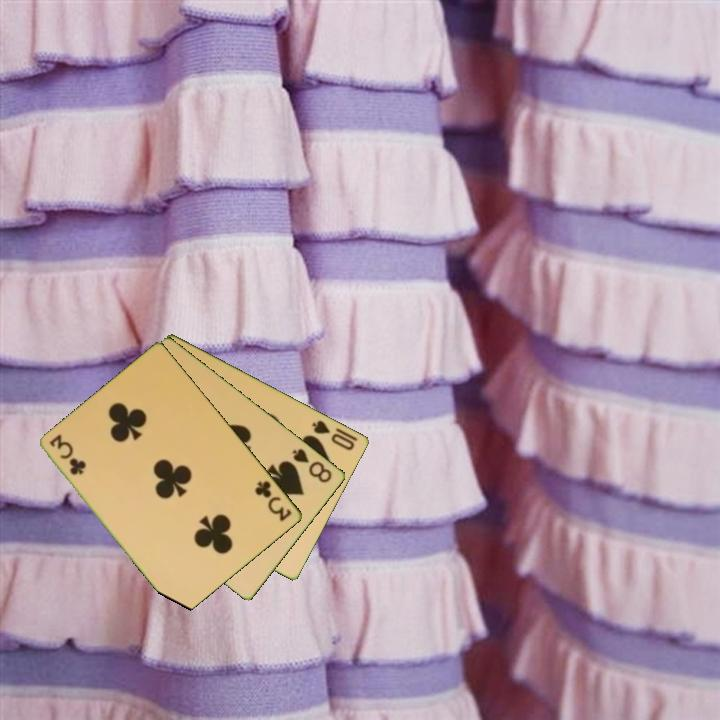10s: (309, 416, 358, 453)
3c: (251, 477, 295, 525), (46, 431, 88, 478)
8s: (289, 445, 335, 486)
